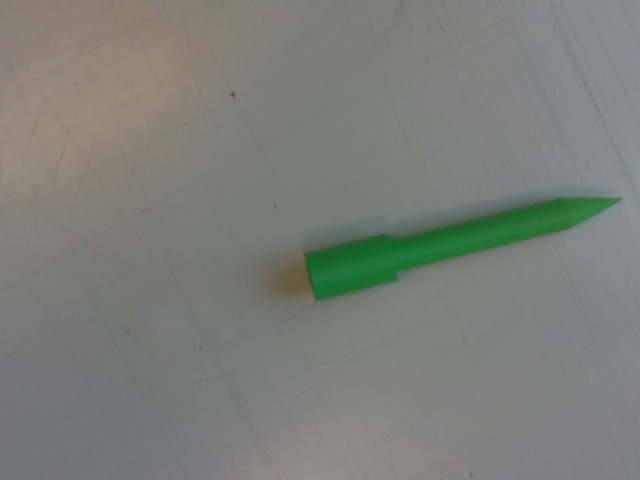Probe: (301, 188, 633, 305)
